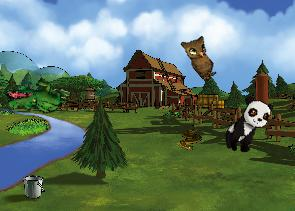crocodile: (3, 71, 71, 125)
owl: (176, 29, 227, 83)
panda: (219, 92, 276, 159)
